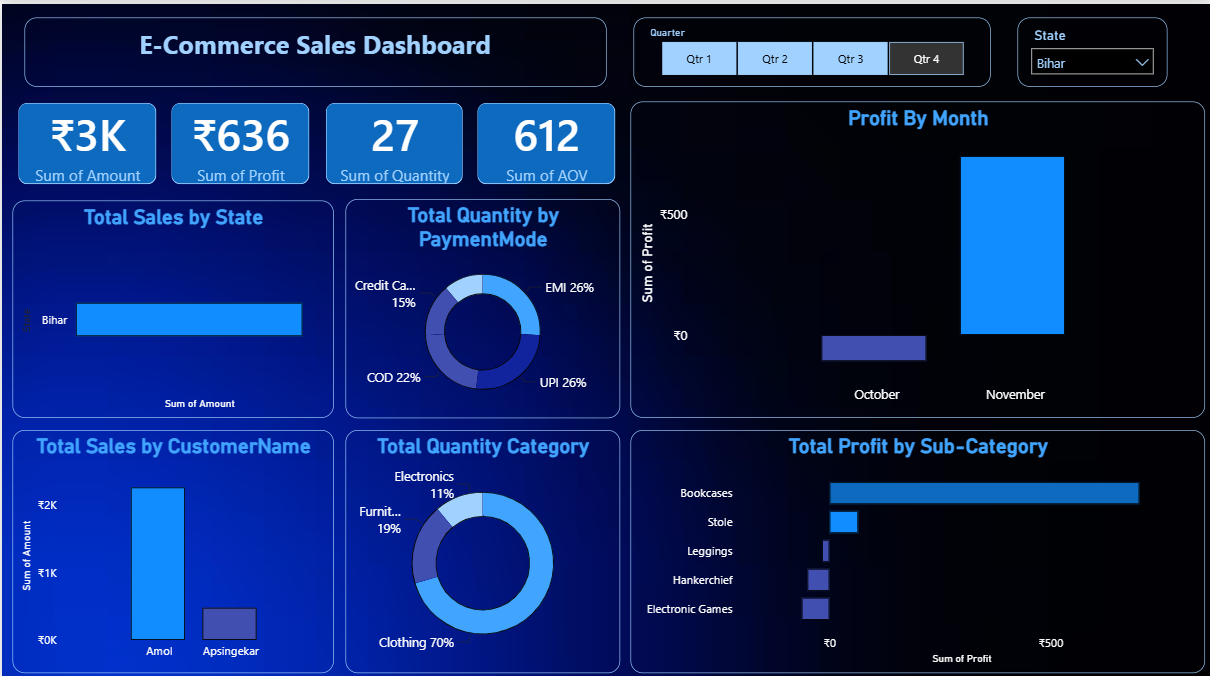

The dashboard page shown, as its layout file describes it:
{"tool":"powerbi","page":{"name":"Page 1","canvas":[1280,720],"ordinal":0},"visuals":[{"type":"textbox","box":[23.8,14.3,615.9,73],"z":0},{"type":"columnChart","title":"Profit By Month","fields":{"Category":["Orders.Order Date.Variation.Date Hierarchy.Month"],"Y":["Sum(Details.Profit)"]},"box":[665.1,103.2,607.9,334.9],"z":1000},{"type":"barChart","title":"Total Profit by Sub-Category","fields":{"Category":["Details.Sub-Category"],"Y":["Sum(Details.Profit)"]},"box":[665.1,450.8,607.9,257.1],"z":2000},{"type":"donutChart","title":"Total Quantity Category","fields":{"Category":["Details.Category"],"Y":["Sum(Details.Quantity)"]},"box":[363.5,450.8,290.5,257.1],"z":3000},{"type":"donutChart","title":"Total Quantity by PaymentMode","fields":{"Y":["Sum(Details.Quantity)"],"Category":["Details.PaymentMode"]},"box":[363.5,206.3,290.5,231.7],"z":4000},{"type":"cardVisual","fields":{"Data":["Sum(Details.Amount)"]},"box":[0,87.3,181,120.6],"z":5000},{"type":"cardVisual","fields":{"Data":["Sum(Details.Profit)"]},"box":[162.4,87.3,181,120.6],"z":6000},{"type":"cardVisual","fields":{"Data":["Sum(Details.Quantity)"]},"box":[324.9,87.3,179.4,120.6],"z":7000},{"type":"cardVisual","fields":{"Data":["Sum(Details.AOV)"]},"box":[485.7,87.3,180,120],"z":8000},{"type":"barChart","title":"Total Sales by State","fields":{"Category":["Orders.State"],"Y":["Sum(Details.Amount)"]},"box":[11.1,207.9,339.7,230.2],"z":9000},{"type":"columnChart","title":"Total Sales by CustomerName","fields":{"Category":["Orders.CustomerName"],"Y":["Sum(Details.Amount)"]},"box":[11.1,450.8,339.7,257.1],"z":10000},{"type":"slicer","fields":{"Values":["Orders.Order Date.Variation.Date Hierarchy.Quarter"]},"box":[668.3,14.3,377.8,73],"z":11000},{"type":"slicer","fields":{"Values":["Orders.State"]},"box":[1074.6,14.3,158.7,73],"z":12000}]}

Visuals, with their boxes in screenshot pixels (x1, y1, x2, y2), scaled from the page's 1280x720 canvas onto the 1210x676 screenshot:
textbox: bbox=(22, 13, 605, 82)
"Profit By Month" columnChart: bbox=(629, 97, 1203, 411)
"Total Profit by Sub-Category" barChart: bbox=(629, 423, 1203, 665)
"Total Quantity Category" donutChart: bbox=(344, 423, 618, 665)
"Total Quantity by PaymentMode" donutChart: bbox=(344, 194, 618, 411)
cardVisual - Sum(Details.Amount): bbox=(0, 82, 171, 195)
cardVisual - Sum(Details.Profit): bbox=(154, 82, 325, 195)
cardVisual - Sum(Details.Quantity): bbox=(307, 82, 477, 195)
cardVisual - Sum(Details.AOV): bbox=(459, 82, 629, 195)
"Total Sales by State" barChart: bbox=(10, 195, 332, 411)
"Total Sales by CustomerName" columnChart: bbox=(10, 423, 332, 665)
slicer - Orders.Order Date.Variation.Date Hierarchy.Quarter: bbox=(632, 13, 989, 82)
slicer - Orders.State: bbox=(1016, 13, 1166, 82)
